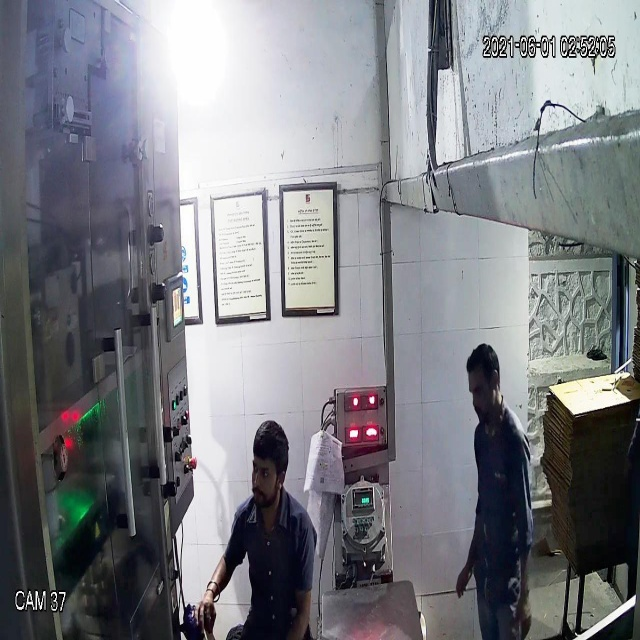Sin_gafas: (245, 451, 286, 489)
